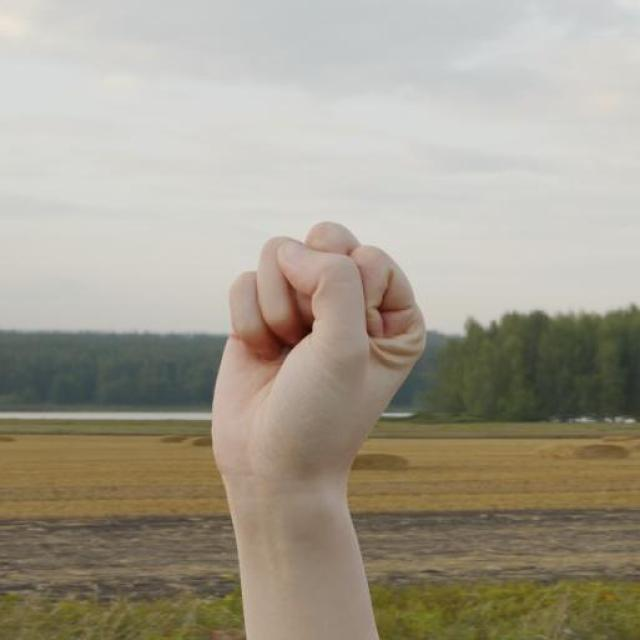S: (206, 214, 435, 488)
